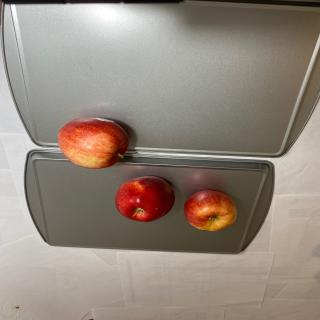Apple: (57, 117, 129, 169), (115, 175, 175, 222), (184, 190, 237, 232)
